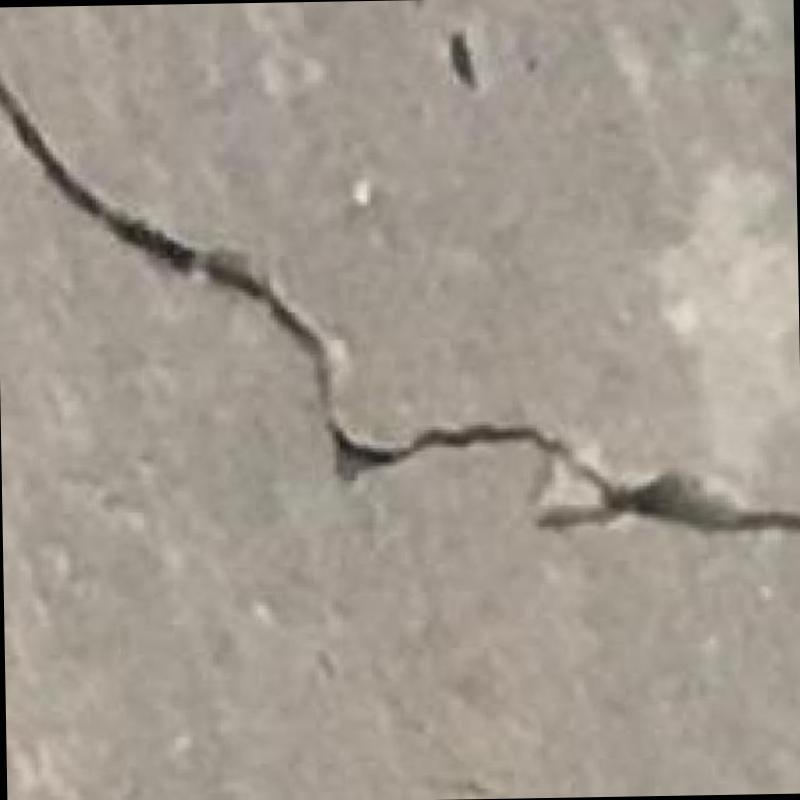pothole: (0, 76, 800, 531)
